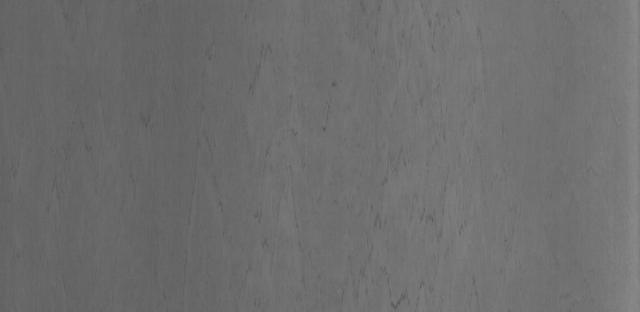silk_spot: (200, 0, 488, 298)
